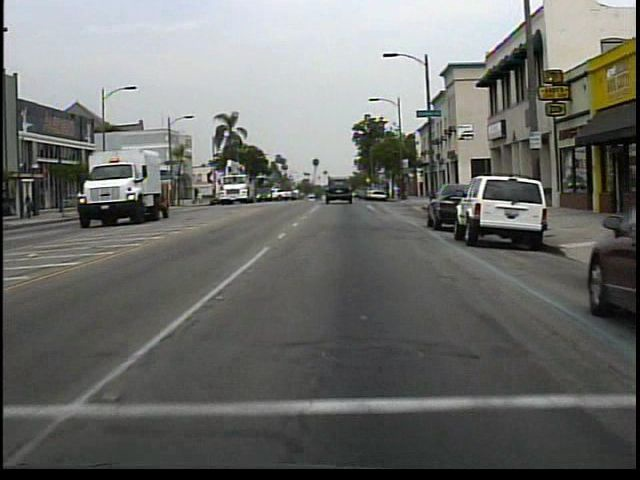person: (28, 193, 38, 221)
